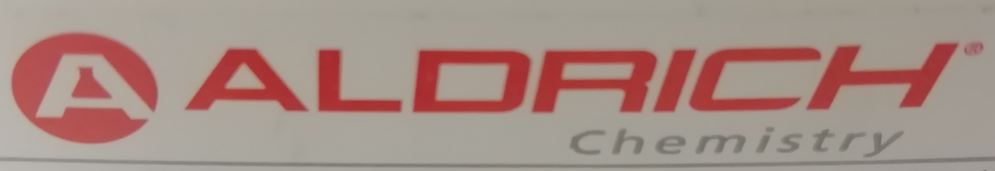SigmaAldrich: (9, 29, 989, 159)
